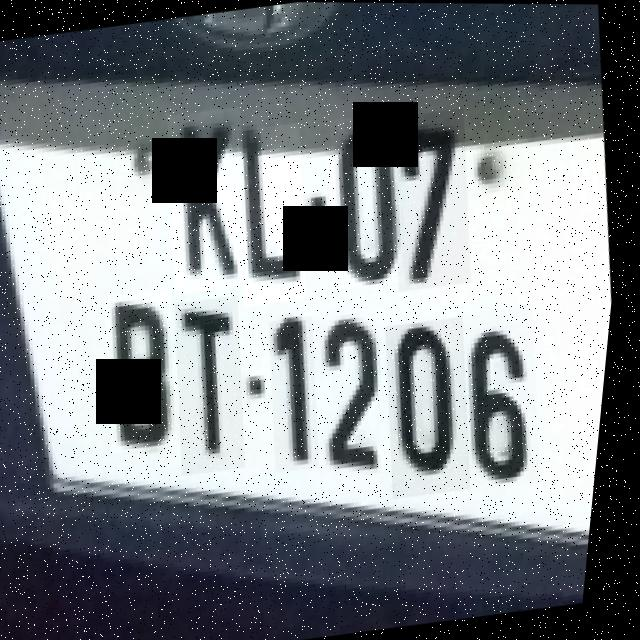0: (378, 315, 493, 499), (319, 110, 422, 290)
1: (264, 315, 340, 473)
6: (453, 303, 564, 492)
7: (380, 107, 490, 292)
B: (98, 287, 199, 455)
K: (156, 107, 268, 297)
L: (226, 122, 327, 307)
T: (167, 295, 268, 476)
